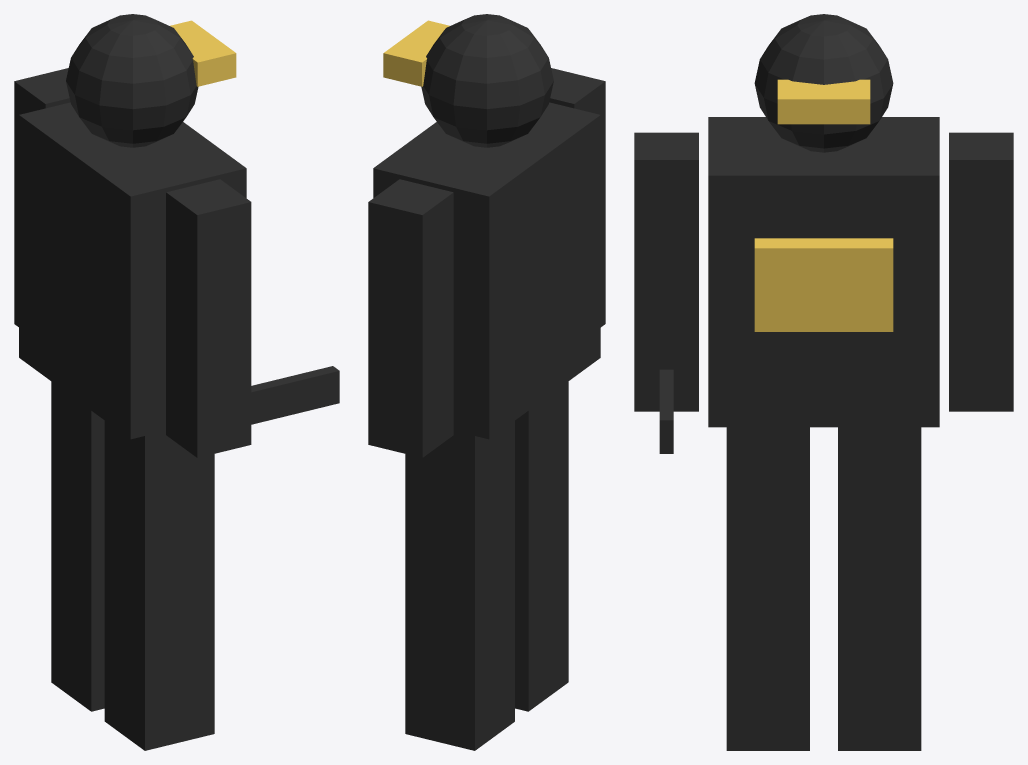
Rendered from skerrow.glb.
The picture shows the model from 3 angles, left to right: view 1: azimuth 30°, elevation 25°; view 2: azimuth 150°, elevation 25°; view 3: azimuth 270°, elevation 25°; orthographic projection. The views are drawn at different scales.
Parts seen in each view (by area): view 1: Champion; view 2: Champion; view 3: Champion.
Part boxes in pixels (x1,y1,x2,y2): Champion: [14, 14, 339, 750]; Champion: [368, 14, 605, 750]; Champion: [634, 14, 1013, 750].
Size of the model in its own units: 0.48 by 1.7 by 0.82.
